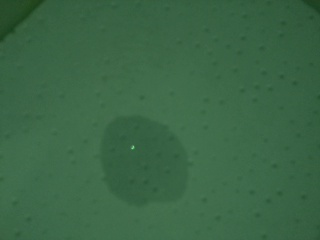Water_detected: (104, 128, 183, 194)
